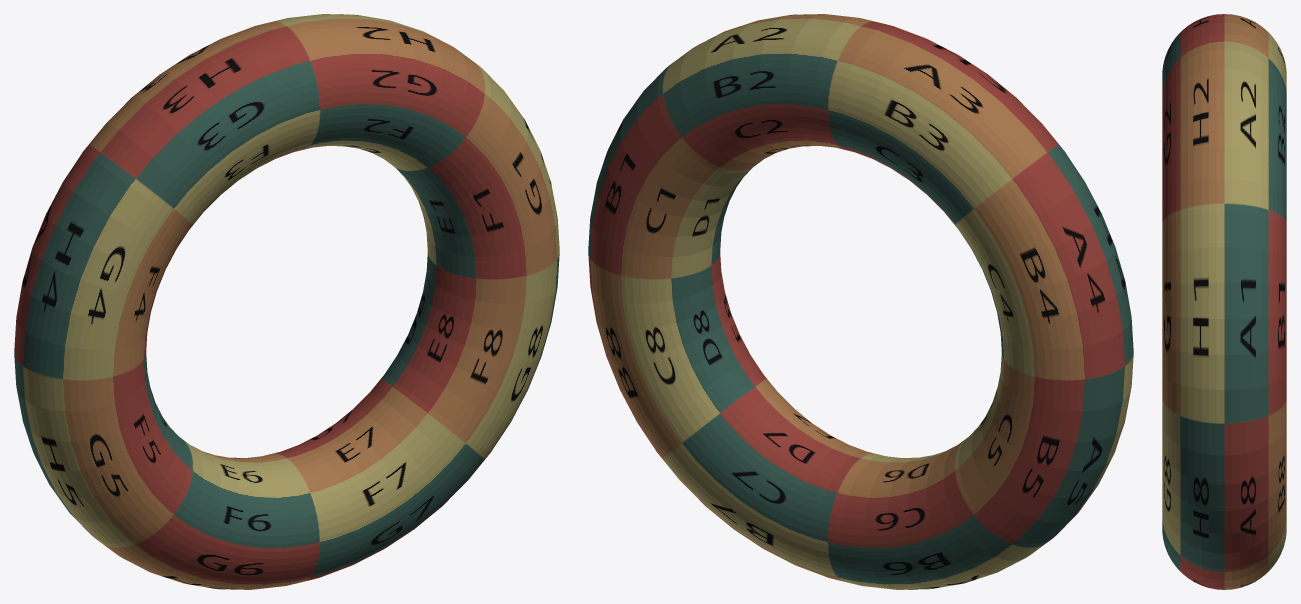
File: texture_torus_R19_r16.glb
3 views of the same model, side by side, from view 1: azimuth 30°, elevation 25°; view 2: azimuth 150°, elevation 25°; view 3: azimuth 270°, elevation 25° (orthographic). The views are drawn at different scales.
Visible parts, largest first — view 1: world; view 2: world; view 3: world.
Boxes of the visible parts, bbox=[...] form: world: bbox=[14, 14, 559, 589]; world: bbox=[588, 14, 1133, 589]; world: bbox=[1162, 14, 1286, 589].
Size of the model in its own units: 28.93 by 28.88 by 6.25.
1 material, 1 textured.
